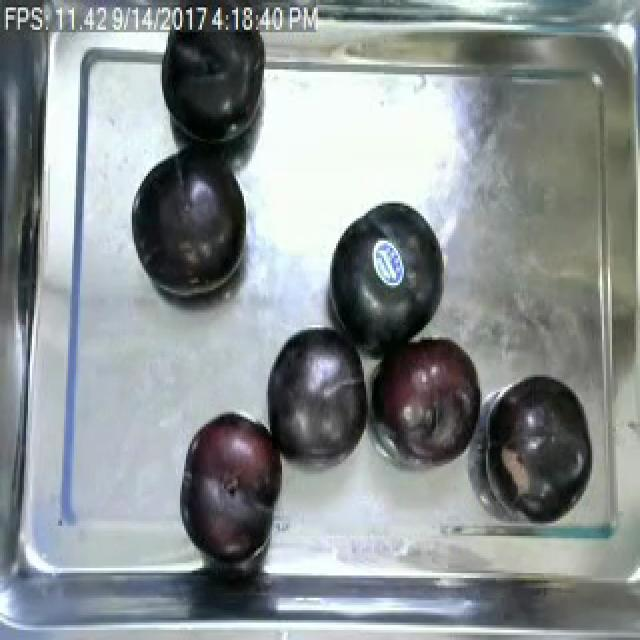Fruit: (320, 193, 452, 354), (126, 132, 252, 300), (174, 407, 290, 568), (152, 5, 278, 151), (366, 325, 488, 474), (484, 370, 600, 521), (260, 317, 376, 464)
